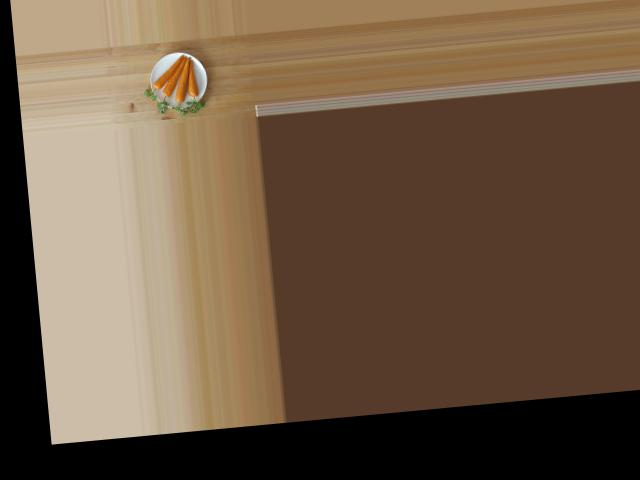carrot: (148, 53, 186, 92)
